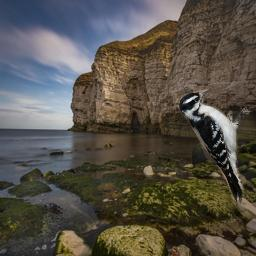Woodpecker: (178, 89, 252, 205)
